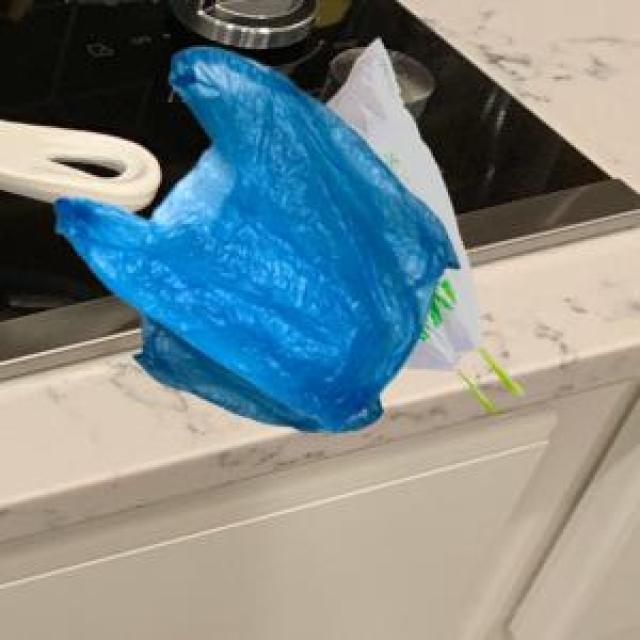waste: (55, 39, 478, 432)
